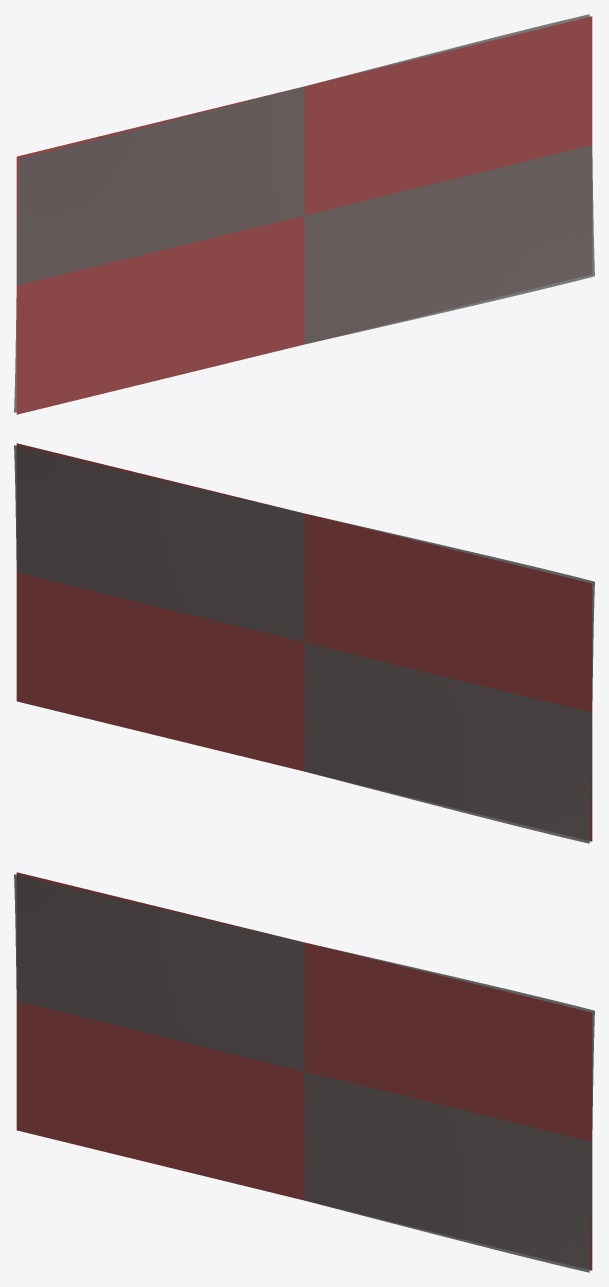
The model's file is warping-rectangle-60-140-5253.glb.
The picture shows the model from 3 angles, top to bottom: view 1: azimuth 30°, elevation 25°; view 2: azimuth 150°, elevation 25°; view 3: azimuth 330°, elevation 25°; orthographic projection.
Visible parts, largest first — view 1: undeformed cross-section, cross-section with warping; view 2: undeformed cross-section, cross-section with warping; view 3: undeformed cross-section, cross-section with warping.
Boxes of the visible parts, <box> form: undeformed cross-section: <box>16,16,592,414</box>; cross-section with warping: <box>14,14,594,412</box>; undeformed cross-section: <box>16,443,592,841</box>; cross-section with warping: <box>14,445,594,843</box>; undeformed cross-section: <box>16,872,592,1270</box>; cross-section with warping: <box>14,874,594,1272</box>.
Bounding box in the file's own units: 0.14 × 0.06 × 0.00249.
